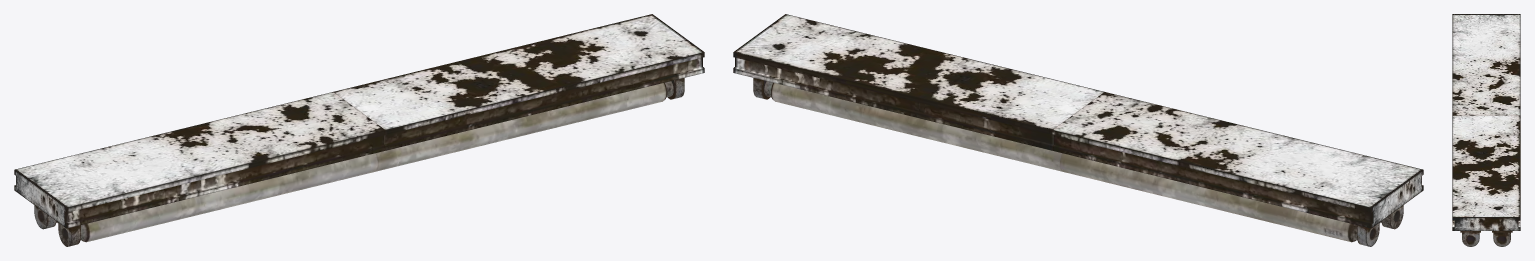
The model's file is light.glb.
The picture shows the model from 3 angles, left to right: view 1: azimuth 30°, elevation 25°; view 2: azimuth 150°, elevation 25°; view 3: azimuth 270°, elevation 25°; orthographic projection. The views are drawn at different scales.
Parts seen in each view (by area): view 1: GasstationLight_LOW; view 2: GasstationLight_LOW; view 3: GasstationLight_LOW.
Part boxes in pixels (bbox=[...]): GasstationLight_LOW: bbox=[14, 14, 704, 246]; GasstationLight_LOW: bbox=[733, 14, 1423, 246]; GasstationLight_LOW: bbox=[1452, 14, 1520, 246].
Bounding box in the file's own units: 1.62 × 0.1245 × 0.2301.
1 material, 1 textured.
